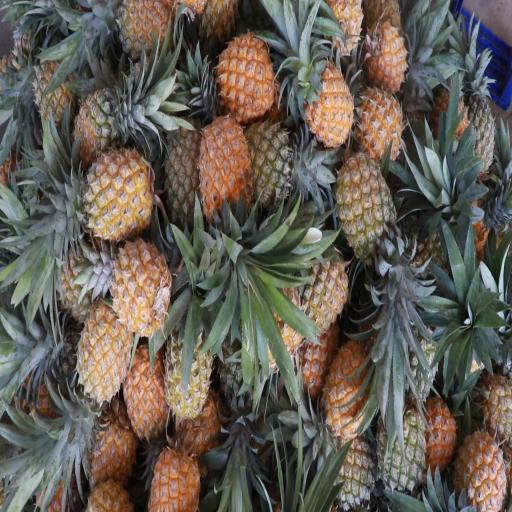------------------------------: (332, 146, 398, 276), (64, 82, 138, 175), (162, 302, 215, 426), (240, 108, 300, 204), (113, 0, 180, 67)
Pineapple - v8 v1: (64, 142, 158, 249), (190, 108, 253, 238), (106, 228, 169, 341), (71, 296, 133, 408), (318, 330, 376, 446), (290, 242, 350, 348), (294, 60, 358, 158), (216, 30, 275, 126), (352, 77, 408, 173), (119, 337, 171, 439), (456, 410, 507, 512), (144, 437, 201, 510), (361, 22, 414, 96)
